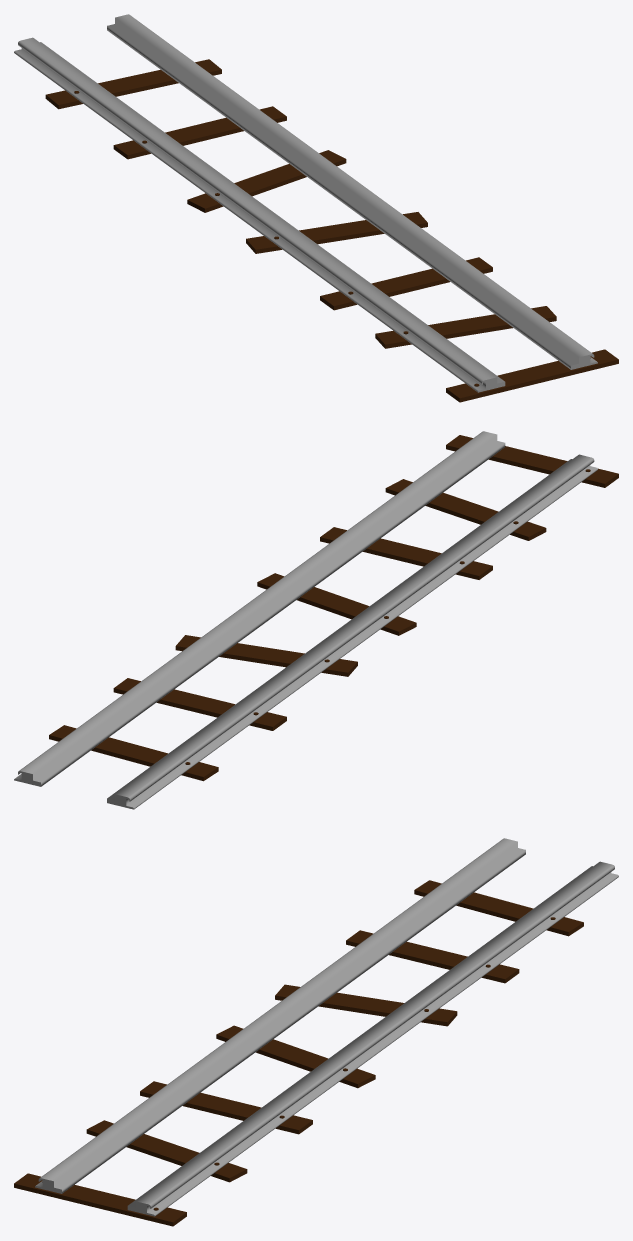
Rendered from rails_segment.dae.
The picture shows the model from 3 angles, top to bottom: view 1: azimuth 30°, elevation 25°; view 2: azimuth 150°, elevation 25°; view 3: azimuth 330°, elevation 25°; orthographic projection.
Parts seen in each view (by area): view 1: Rails, Traversine; view 2: Rails, Traversine; view 3: Rails, Traversine.
Boxes of the visible parts, <box> form: Rails: <box>14,14,597,392</box>; Traversine: <box>45,59,618,402</box>; Rails: <box>14,431,597,809</box>; Traversine: <box>49,435,618,781</box>; Rails: <box>35,838,618,1216</box>; Traversine: <box>14,880,583,1226</box>.
Bounding box in the file's own units: 4.01 × 20.05 × 0.3552.
